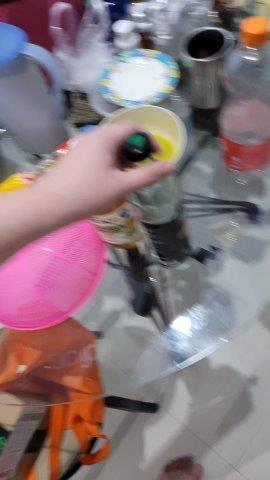botolkaca: (119, 134, 202, 274)
